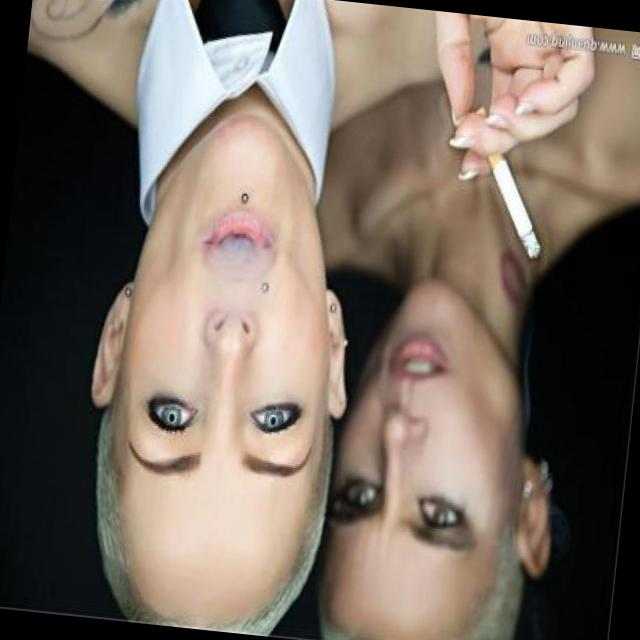smoke: (460, 101, 558, 269)
